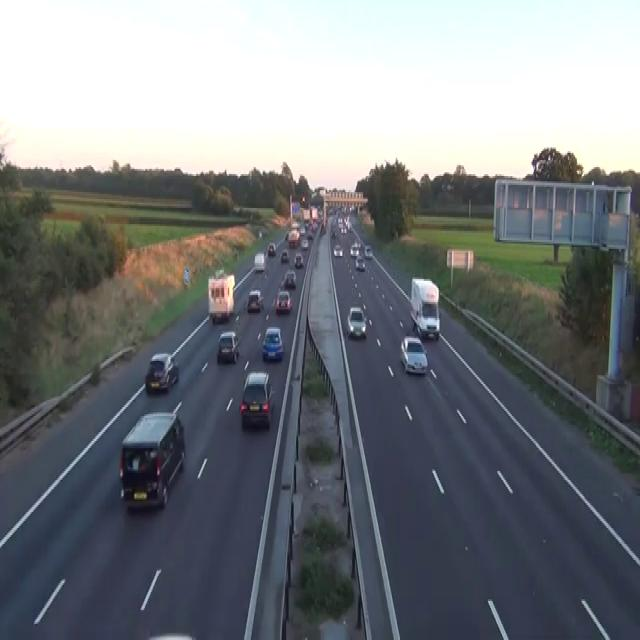Car: (239, 372, 274, 426), (145, 352, 178, 393), (400, 336, 427, 373), (261, 325, 284, 361), (216, 330, 239, 362), (346, 306, 366, 338), (246, 288, 264, 311), (275, 290, 292, 313), (283, 268, 296, 288), (147, 633, 196, 638), (288, 229, 299, 247), (355, 256, 365, 270), (267, 242, 276, 256), (280, 249, 289, 263), (294, 252, 303, 266), (350, 242, 359, 256), (333, 244, 343, 256), (364, 244, 372, 258), (278, 277, 286, 290), (215, 269, 225, 279), (301, 238, 308, 249), (320, 222, 326, 233), (299, 224, 305, 235), (446, 182, 454, 190), (337, 215, 342, 226), (340, 226, 346, 234), (284, 231, 289, 240), (307, 231, 313, 238), (258, 228, 262, 238), (330, 230, 335, 238)
Truck: (118, 406, 185, 508), (409, 276, 440, 340), (207, 272, 235, 322), (253, 251, 265, 272)
